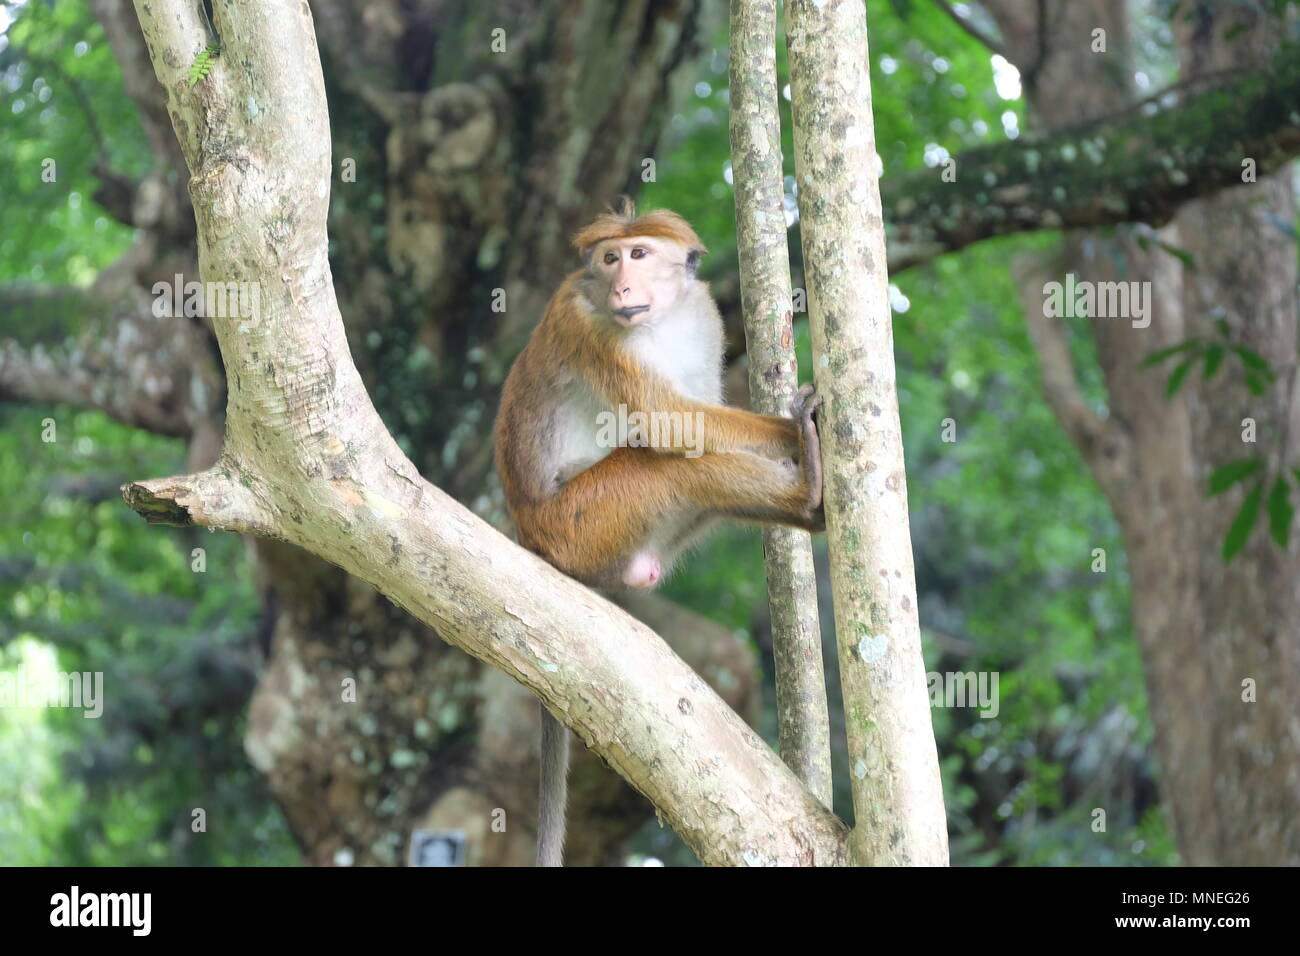Monkey: (470, 176, 792, 614)
